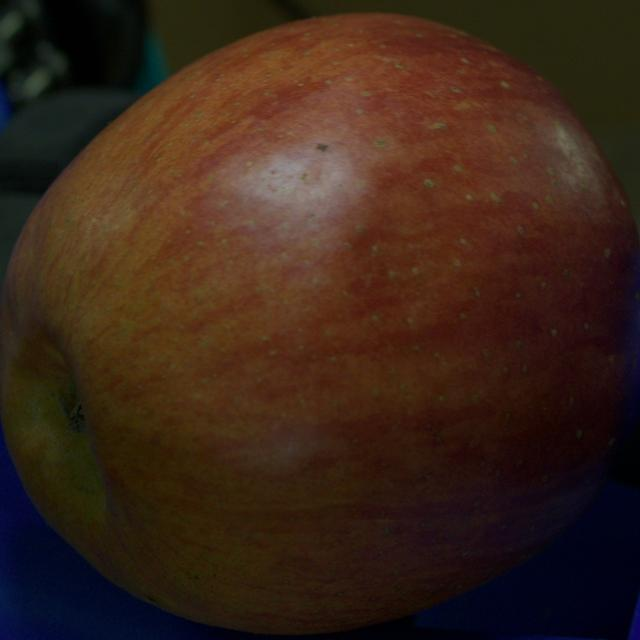apple: (0, 14, 639, 634)
